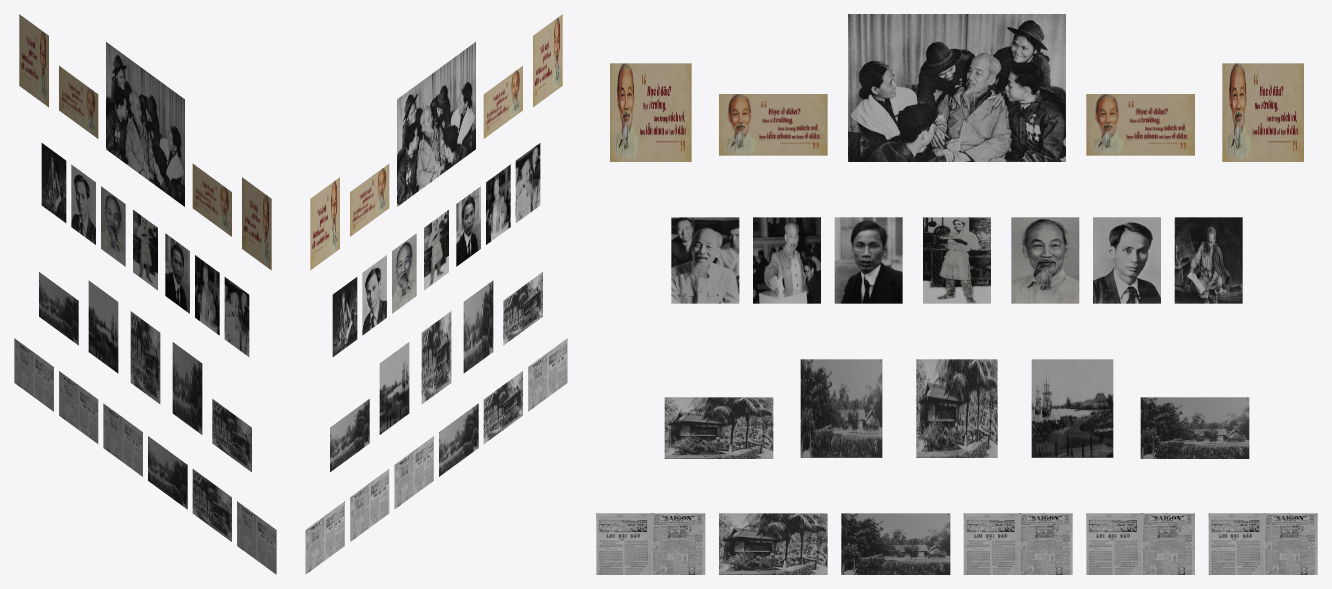
Rendered from HanhTrinhBC_Inside_3.glb.
3 views of the same model, side by side, from view 1: azimuth 30°, elevation 25°; view 2: azimuth 150°, elevation 25°; view 3: azimuth 270°, elevation 25° (orthographic). The views are drawn at different scales.
Parts seen in each view (by area): view 1: Plane.009, Plane.002, Plane.003, Plane.017, Plane.016, Plane.004, Plane.010, Plane.008, Plane.005, Plane.001, Plane.013, Plane.014 (+11 smaller); view 2: Plane.009, Plane.003, Plane.002, Plane.017, Plane.004, Plane.016, Plane.010, Plane.008, Plane.001, Plane.013, Plane.007, Plane.015 (+11 smaller); view 3: Plane.009, Plane.002, Plane.003, Plane.004, Plane.016, Plane.017, Plane.010, Plane.008, Plane.001, Plane.013, Plane.014, Plane.015 (+11 smaller).
Part boxes in pixels (x1=…): Plane.009: x1=106, y1=42, x2=184, y2=206; Plane.002: x1=88, y1=280, x2=118, y2=373; Plane.003: x1=172, y1=342, x2=202, y2=434; Plane.017: x1=130, y1=311, x2=160, y2=403; Plane.016: x1=242, y1=177, x2=271, y2=270; Plane.004: x1=19, y1=14, x2=48, y2=107; Plane.010: x1=148, y1=436, x2=187, y2=509; Plane.008: x1=103, y1=403, x2=142, y2=476; Plane.005: x1=59, y1=66, x2=98, y2=138; Plane.001: x1=237, y1=501, x2=276, y2=574; Plane.013: x1=14, y1=338, x2=53, y2=411; Plane.014: x1=39, y1=272, x2=78, y2=345; Plane.009: x1=397, y1=42, x2=475, y2=206; Plane.003: x1=463, y1=280, x2=493, y2=373; Plane.002: x1=379, y1=342, x2=409, y2=434; Plane.017: x1=421, y1=311, x2=451, y2=403; Plane.004: x1=310, y1=177, x2=339, y2=270; Plane.016: x1=533, y1=14, x2=562, y2=107; Plane.010: x1=439, y1=403, x2=478, y2=476; Plane.008: x1=394, y1=436, x2=433, y2=509; Plane.001: x1=528, y1=338, x2=567, y2=411; Plane.013: x1=305, y1=501, x2=344, y2=574; Plane.007: x1=483, y1=66, x2=522, y2=138; Plane.015: x1=503, y1=272, x2=542, y2=345; Plane.009: x1=848, y1=14, x2=1065, y2=161; Plane.002: x1=1031, y1=359, x2=1113, y2=457; Plane.003: x1=800, y1=359, x2=882, y2=457; Plane.004: x1=1222, y1=63, x2=1303, y2=161; Plane.016: x1=610, y1=63, x2=691, y2=161; Plane.017: x1=916, y1=359, x2=997, y2=457; Plane.010: x1=841, y1=513, x2=950, y2=574; Plane.008: x1=963, y1=513, x2=1072, y2=574; Plane.001: x1=596, y1=513, x2=705, y2=574; Plane.013: x1=1208, y1=513, x2=1317, y2=574; Plane.014: x1=1140, y1=397, x2=1249, y2=458; Plane.015: x1=664, y1=397, x2=773, y2=458.
Size of the model in its own units: 0 by 2.27 by 2.65.
23 materials, 23 textured.
